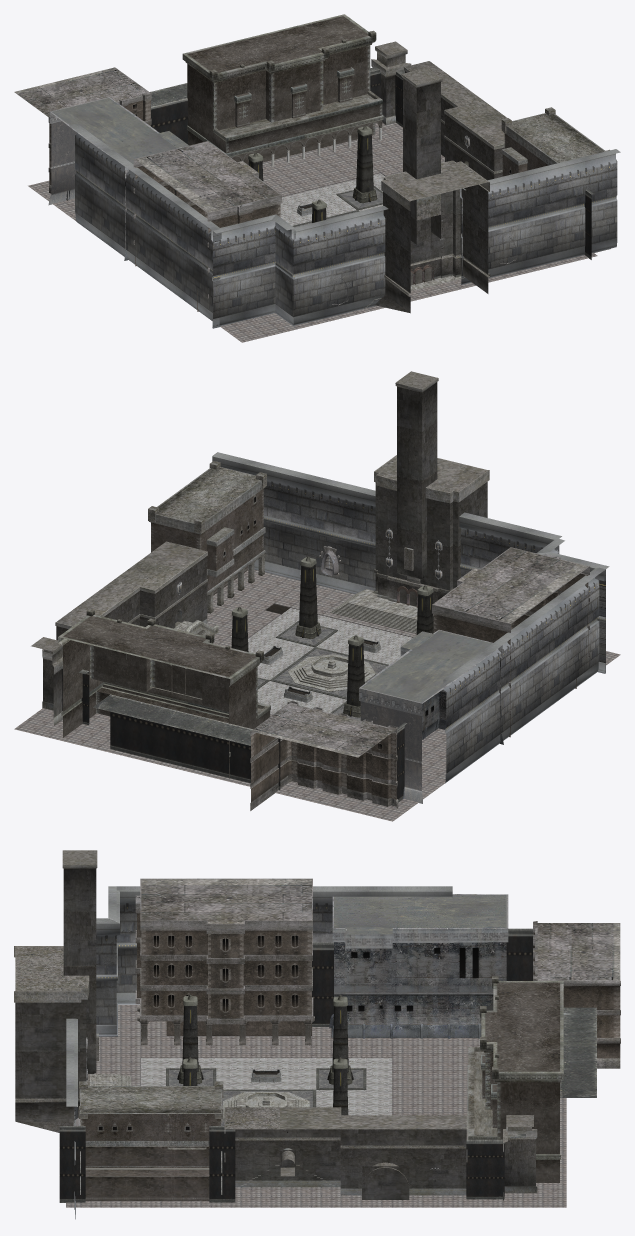
The model's file is courtyard.fbx.
The picture shows the model from 3 angles, top to bottom: view 1: azimuth 30°, elevation 25°; view 2: azimuth 150°, elevation 25°; view 3: azimuth 270°, elevation 25°; orthographic projection. The views are drawn at different scales.
Parts seen in each view (by area): view 1: polySurface670, polySurface669, polySurface666, polySurface668; view 2: polySurface670, polySurface669, polySurface666, polySurface668, polySurface660; view 3: polySurface670, polySurface666, polySurface669, polySurface668, polySurface660.
Boxes of the visible parts, x1,y1,x2,y2 form: polySurface670: (14,14,610,313); polySurface669: (65,67,620,328); polySurface666: (28,122,597,342); polySurface668: (240,125,516,305); polySurface670: (31,371,589,810); polySurface669: (51,452,609,806); polySurface666: (14,568,620,821); polySurface668: (176,528,442,717); polySurface660: (174,589,433,691); polySurface670: (14,850,620,1200); polySurface666: (66,1005,566,1207); polySurface669: (59,886,596,1219); polySurface668: (74,995,440,1181); polySurface660: (80,1074,334,1185).
Size of the model in its own units: 124 by 67.35 by 144.
